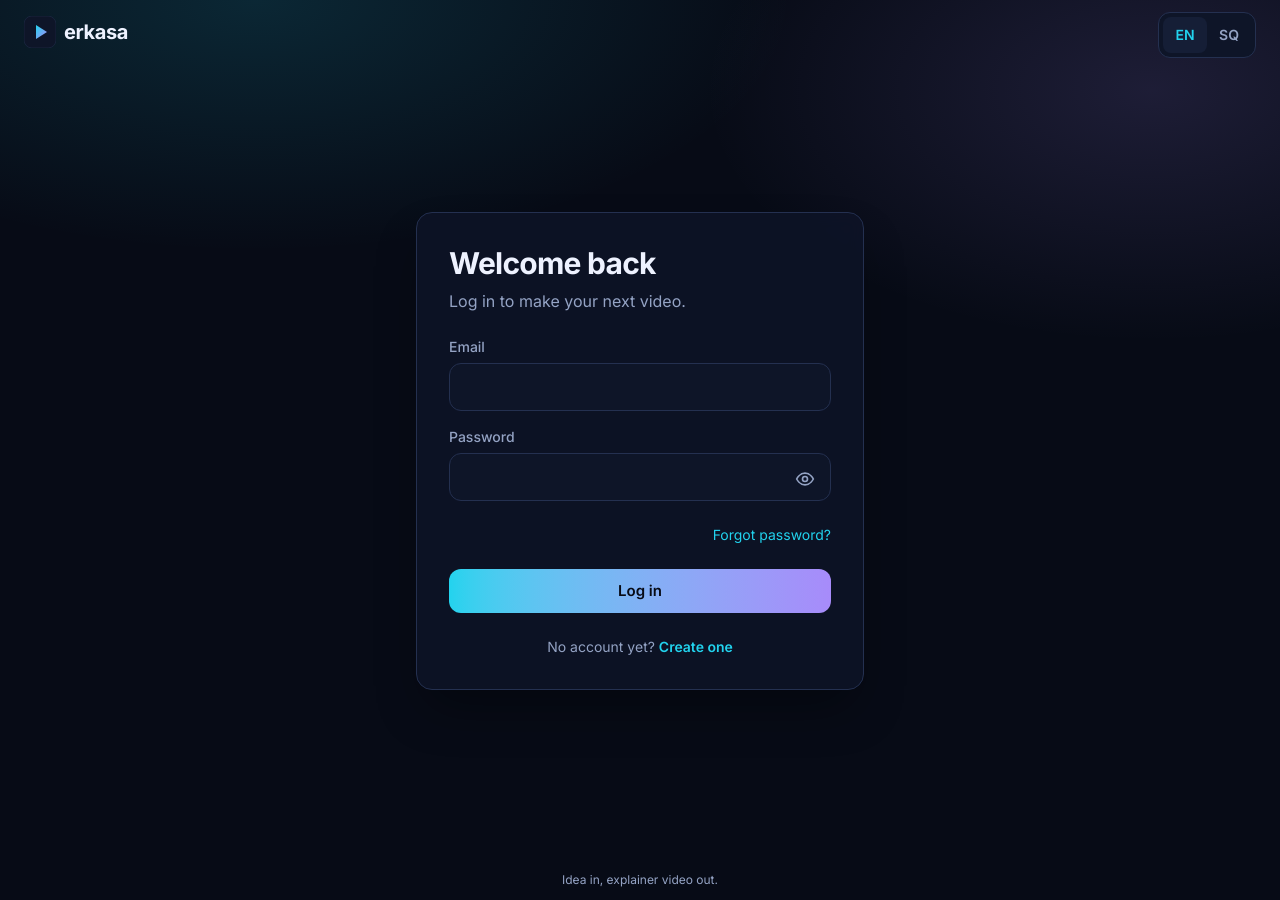
it: login page › shows the translated error for wrong credentials
Type "ergi@example.com" into the field labelled "Email" at (640, 387), box [449, 363, 831, 411]
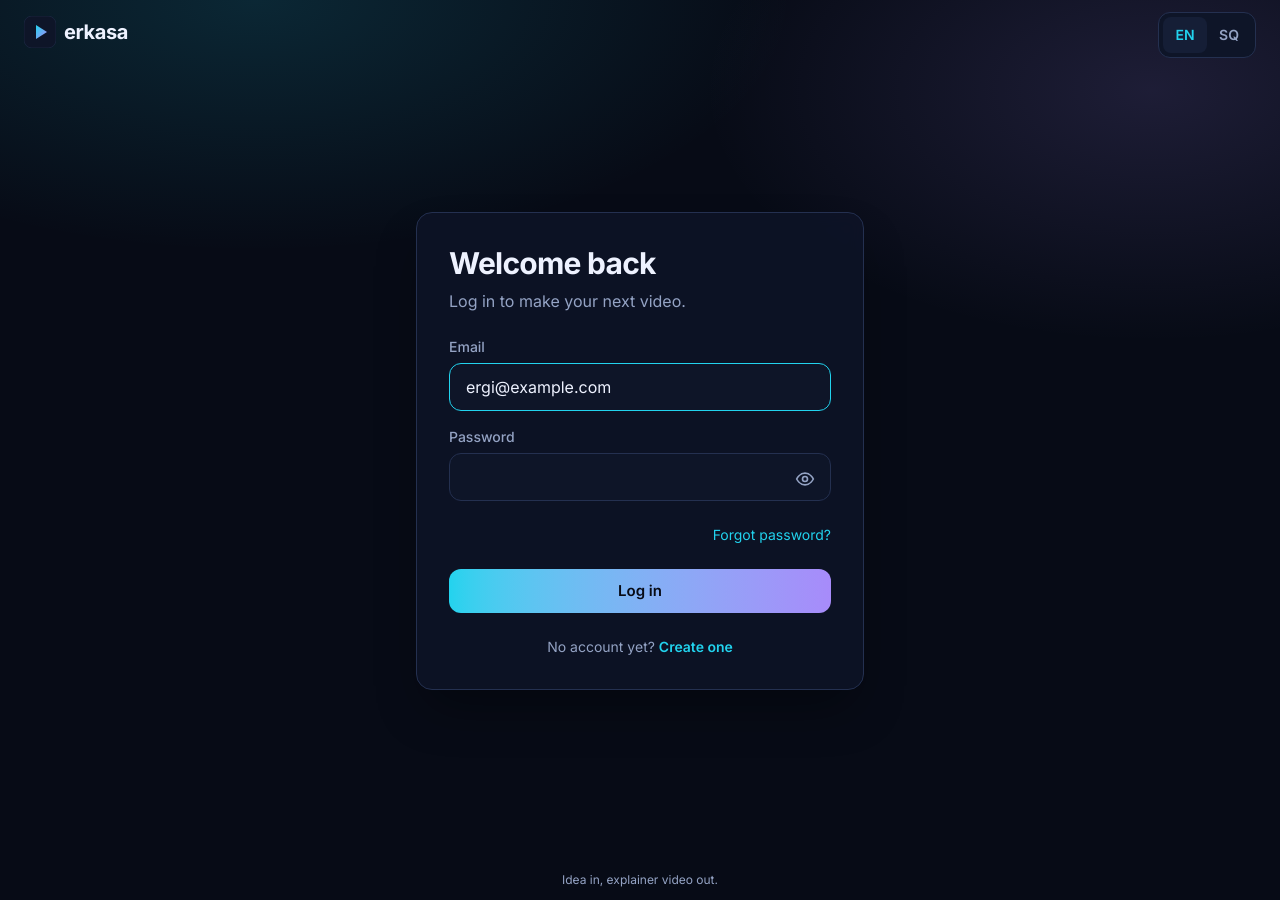
Type "wrongpass" into the password field labelled "Password" at (640, 477), box [449, 453, 831, 501]
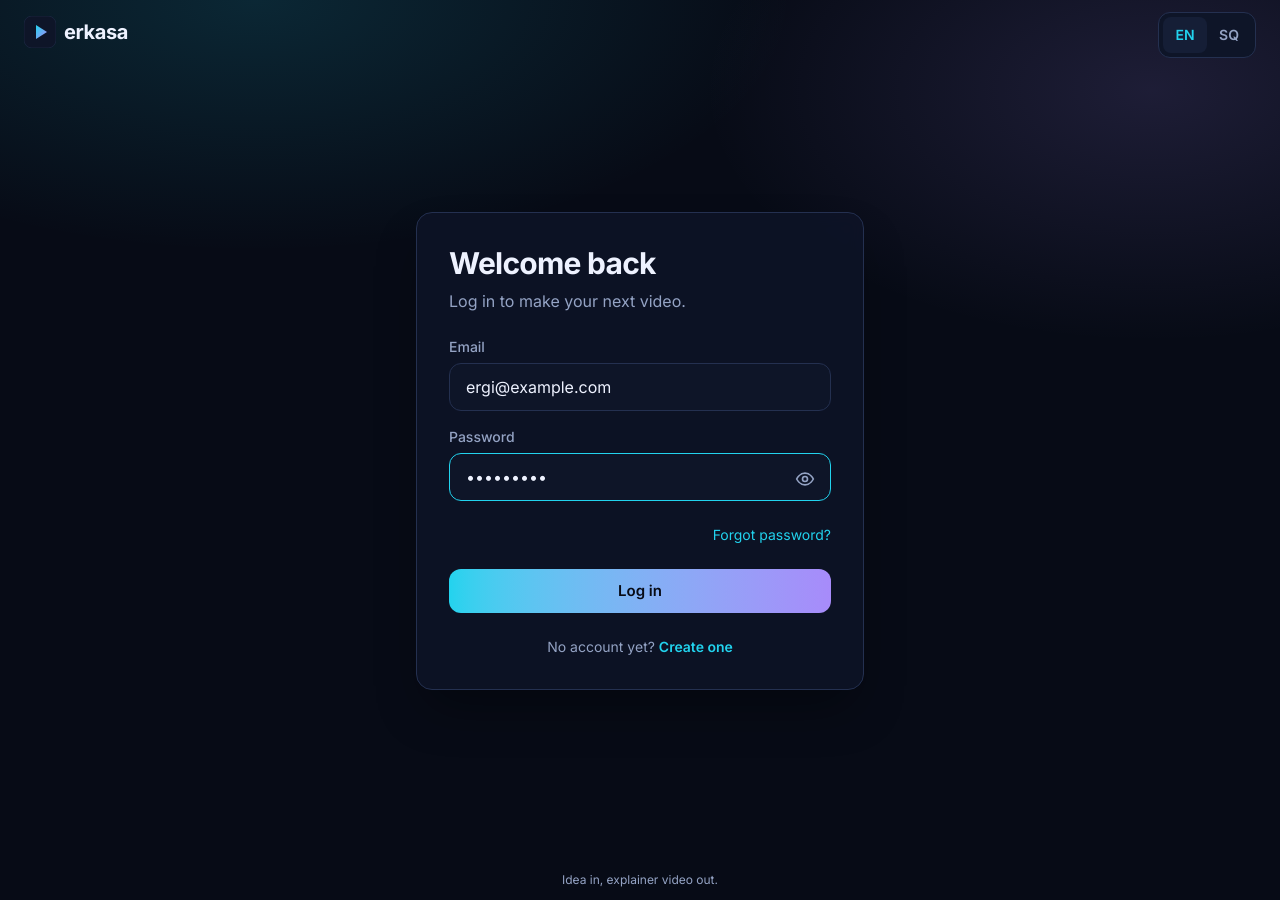
Click the button "Log in" at (640, 591), box [449, 569, 831, 613]
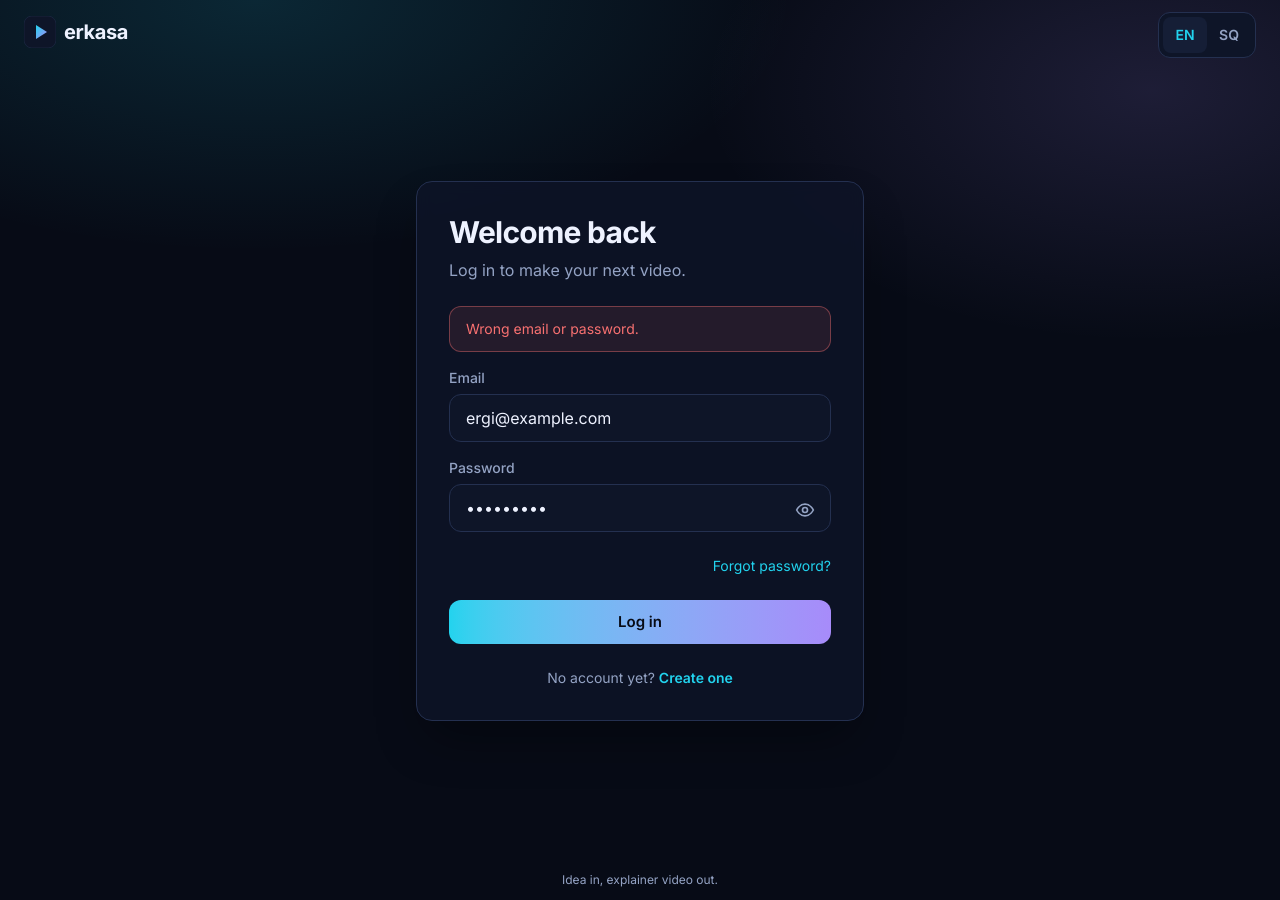
Expected: the message reads "Wrong email or password.", [466, 320, 639, 337]
